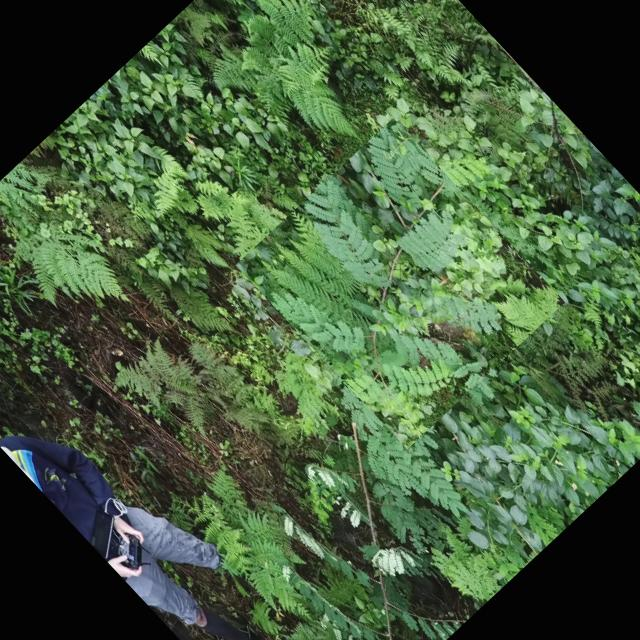Mysore-Thorn-Weed: (235, 117, 566, 449), (166, 388, 510, 640)
